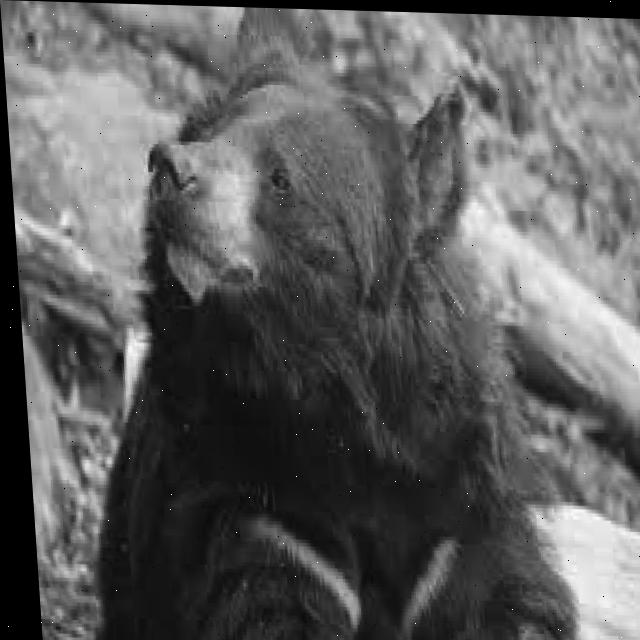Bear: (62, 2, 580, 640)
